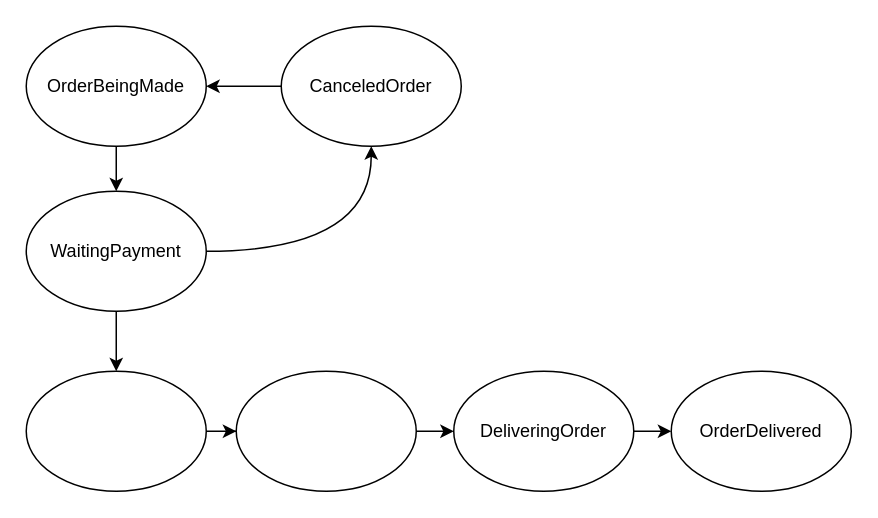
The diagram is 878 pixels wide and 518 high, and some of its shapes have lost their labels. Each missing label, with the box of its shape:
OrderBeingPrepared: (25, 370, 206, 491)
ReadyOrder: (235, 370, 416, 491)
